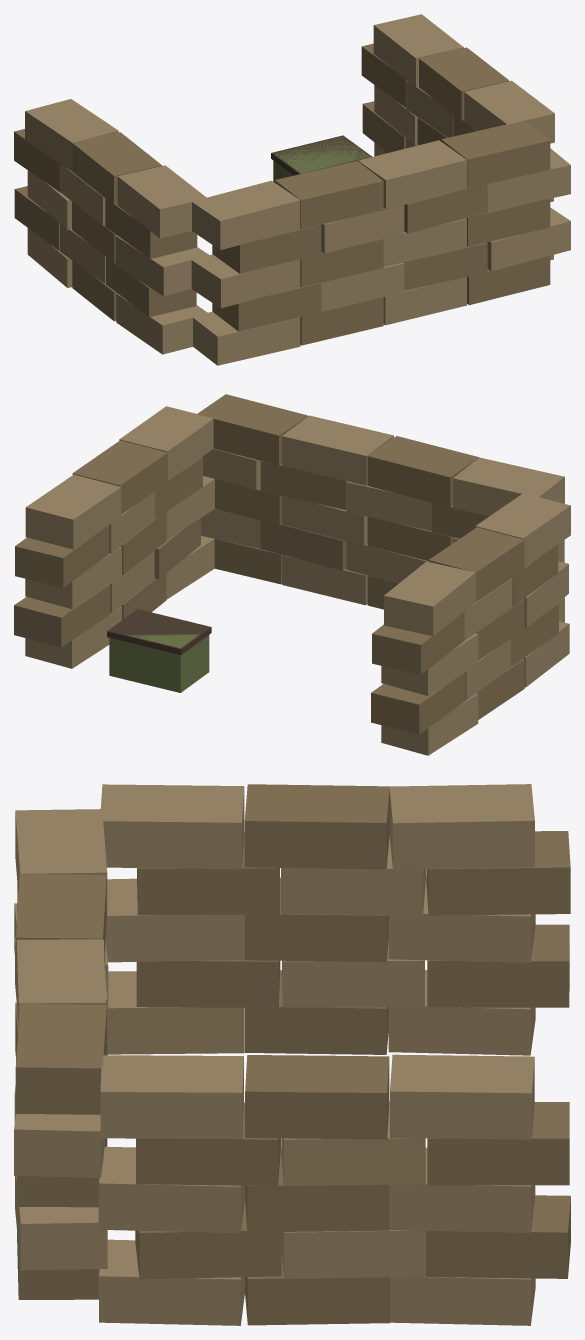
Rendered from room_watchtower_1.glb.
The picture shows the model from 3 angles, top to bottom: view 1: azimuth 30°, elevation 25°; view 2: azimuth 150°, elevation 25°; view 3: azimuth 270°, elevation 25°; orthographic projection. The views are drawn at different scales.
Visible parts, largest first — view 1: room_watchtower_1; view 2: room_watchtower_1; view 3: room_watchtower_1.
Boxes of the visible parts, x1,y1,x2,y2 form: room_watchtower_1: (14, 14, 570, 365); room_watchtower_1: (14, 394, 570, 755); room_watchtower_1: (14, 784, 570, 1325).
Bounding box in the file's own units: 2.87 × 1 × 2.18.
